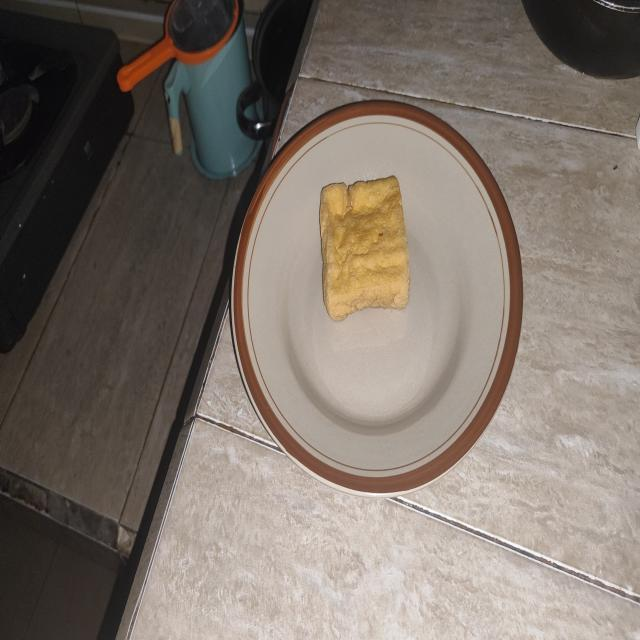tahu_goreng: (320, 177, 410, 321)
